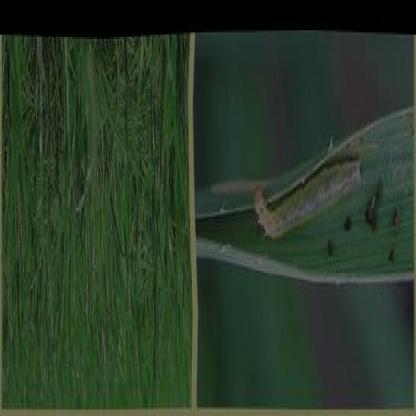leaf-folder: (241, 123, 378, 267)
